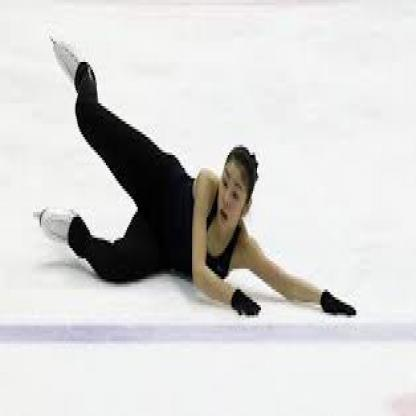Fall_Down: (41, 40, 356, 319)
